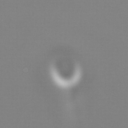normal: (61, 89, 93, 128)
